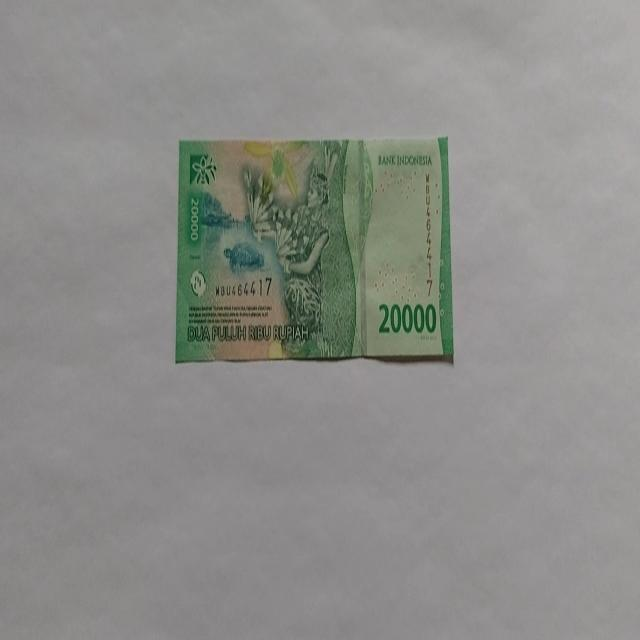dua puluh ribu rupiah: (174, 134, 454, 366), (242, 140, 368, 360)
